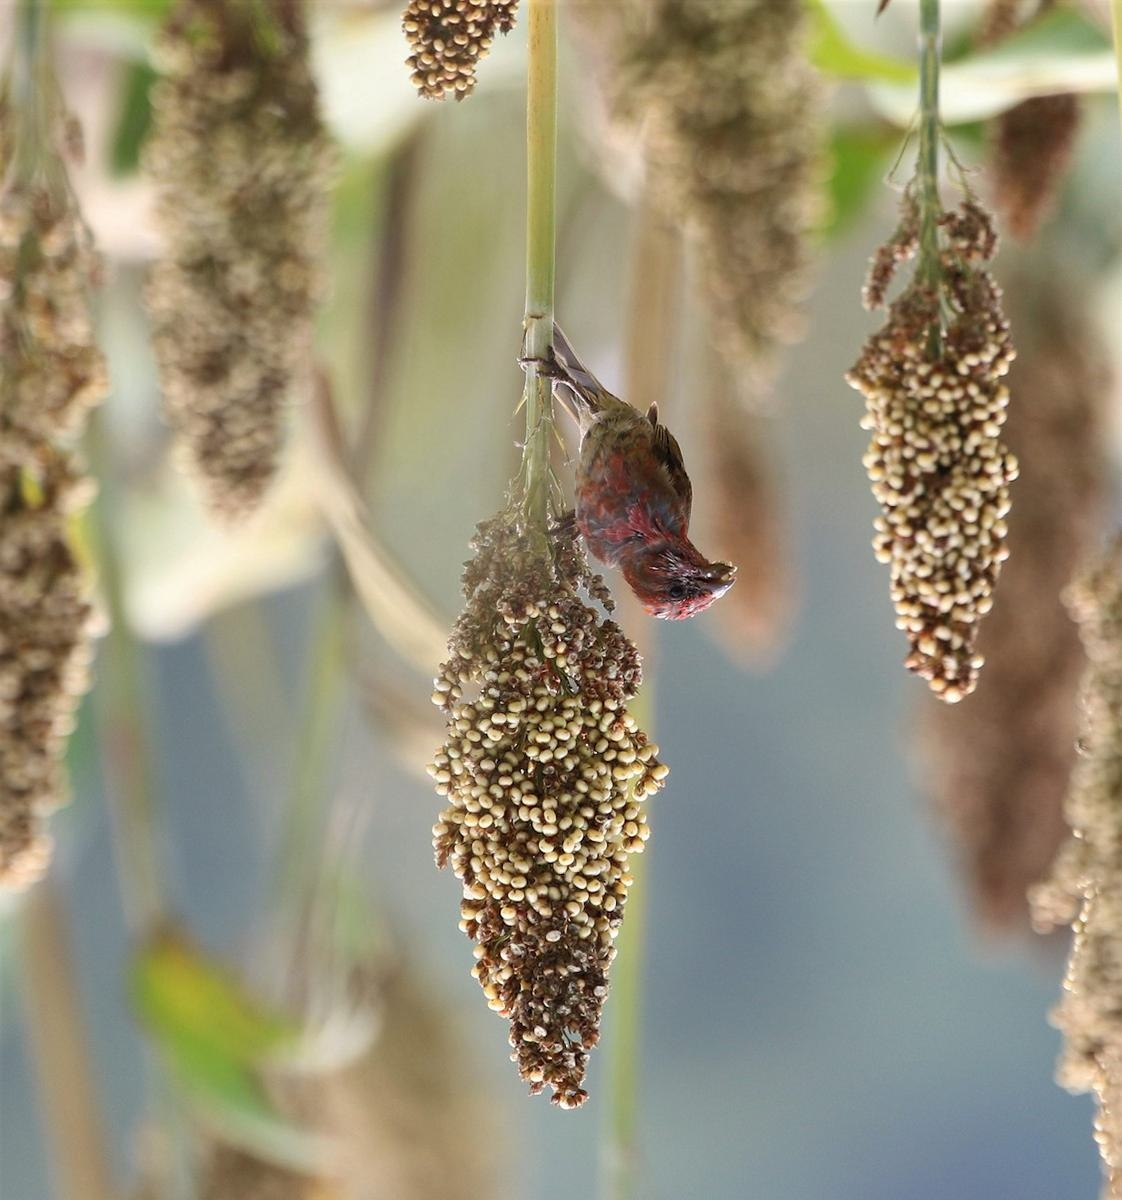rosefinch: (526, 351, 744, 625)
